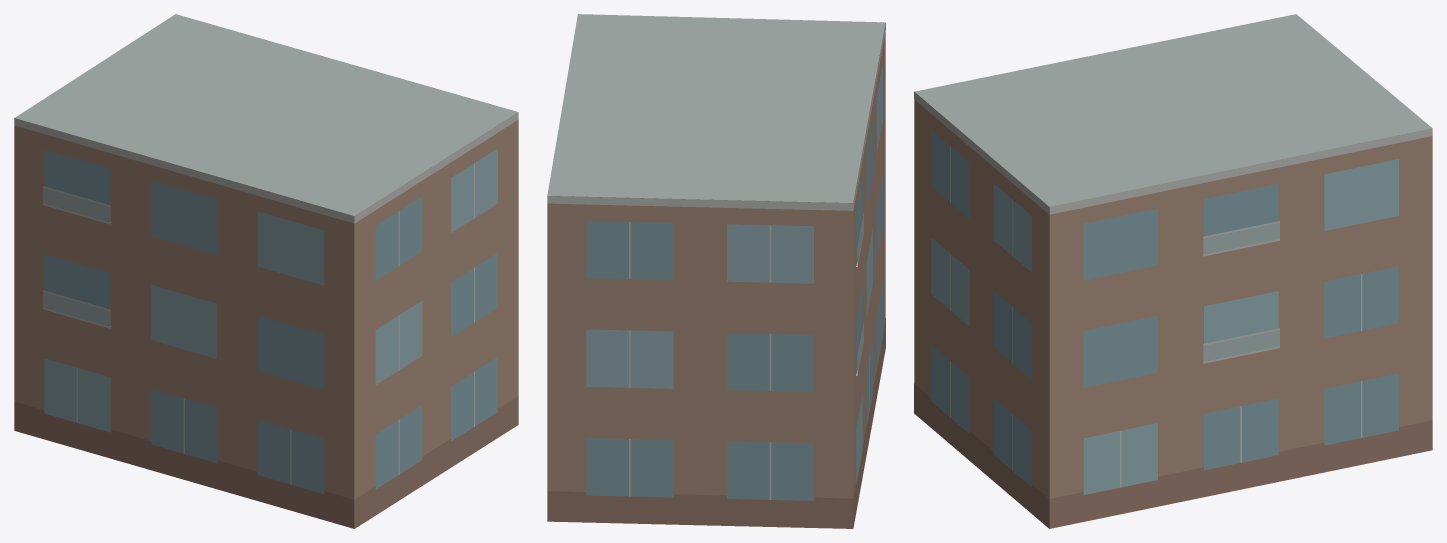
Rendered from survey-upis-32724066.glb.
The picture shows the model from 3 angles, left to right: view 1: azimuth 30°, elevation 25°; view 2: azimuth 150°, elevation 25°; view 3: azimuth 270°, elevation 25°; orthographic projection. The views are drawn at different scales.
Visible parts, largest first — view 1: survey-upis-32724066.tmp; view 2: survey-upis-32724066.tmp; view 3: survey-upis-32724066.tmp.
Part boxes in pixels (<box>): survey-upis-32724066.tmp: <box>14,14,518,528</box>; survey-upis-32724066.tmp: <box>547,14,885,528</box>; survey-upis-32724066.tmp: <box>914,14,1432,528</box>.
Size of the model in its own units: 13.13 by 10.2 by 14.9.
